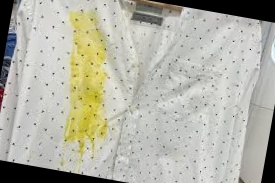mustard: (49, 10, 126, 170)
